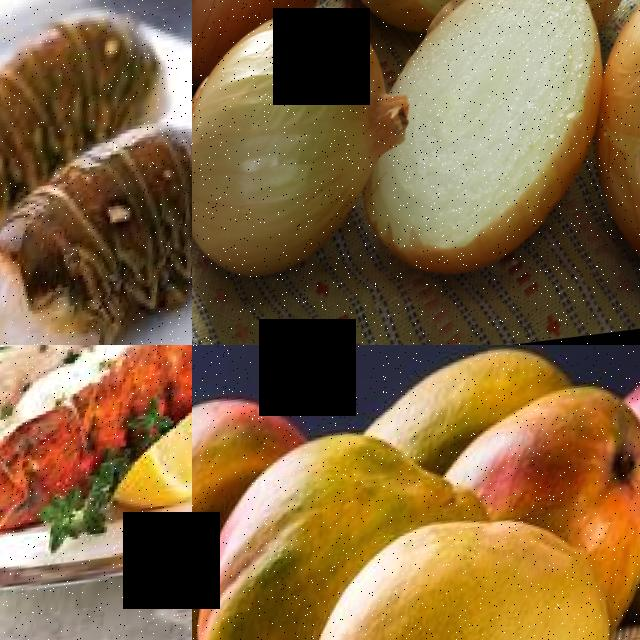lobster tails: (0, 121, 192, 345)
mango: (288, 506, 632, 640), (192, 429, 346, 640)
onion: (377, 0, 602, 276), (192, 5, 397, 282), (588, 0, 640, 308)
